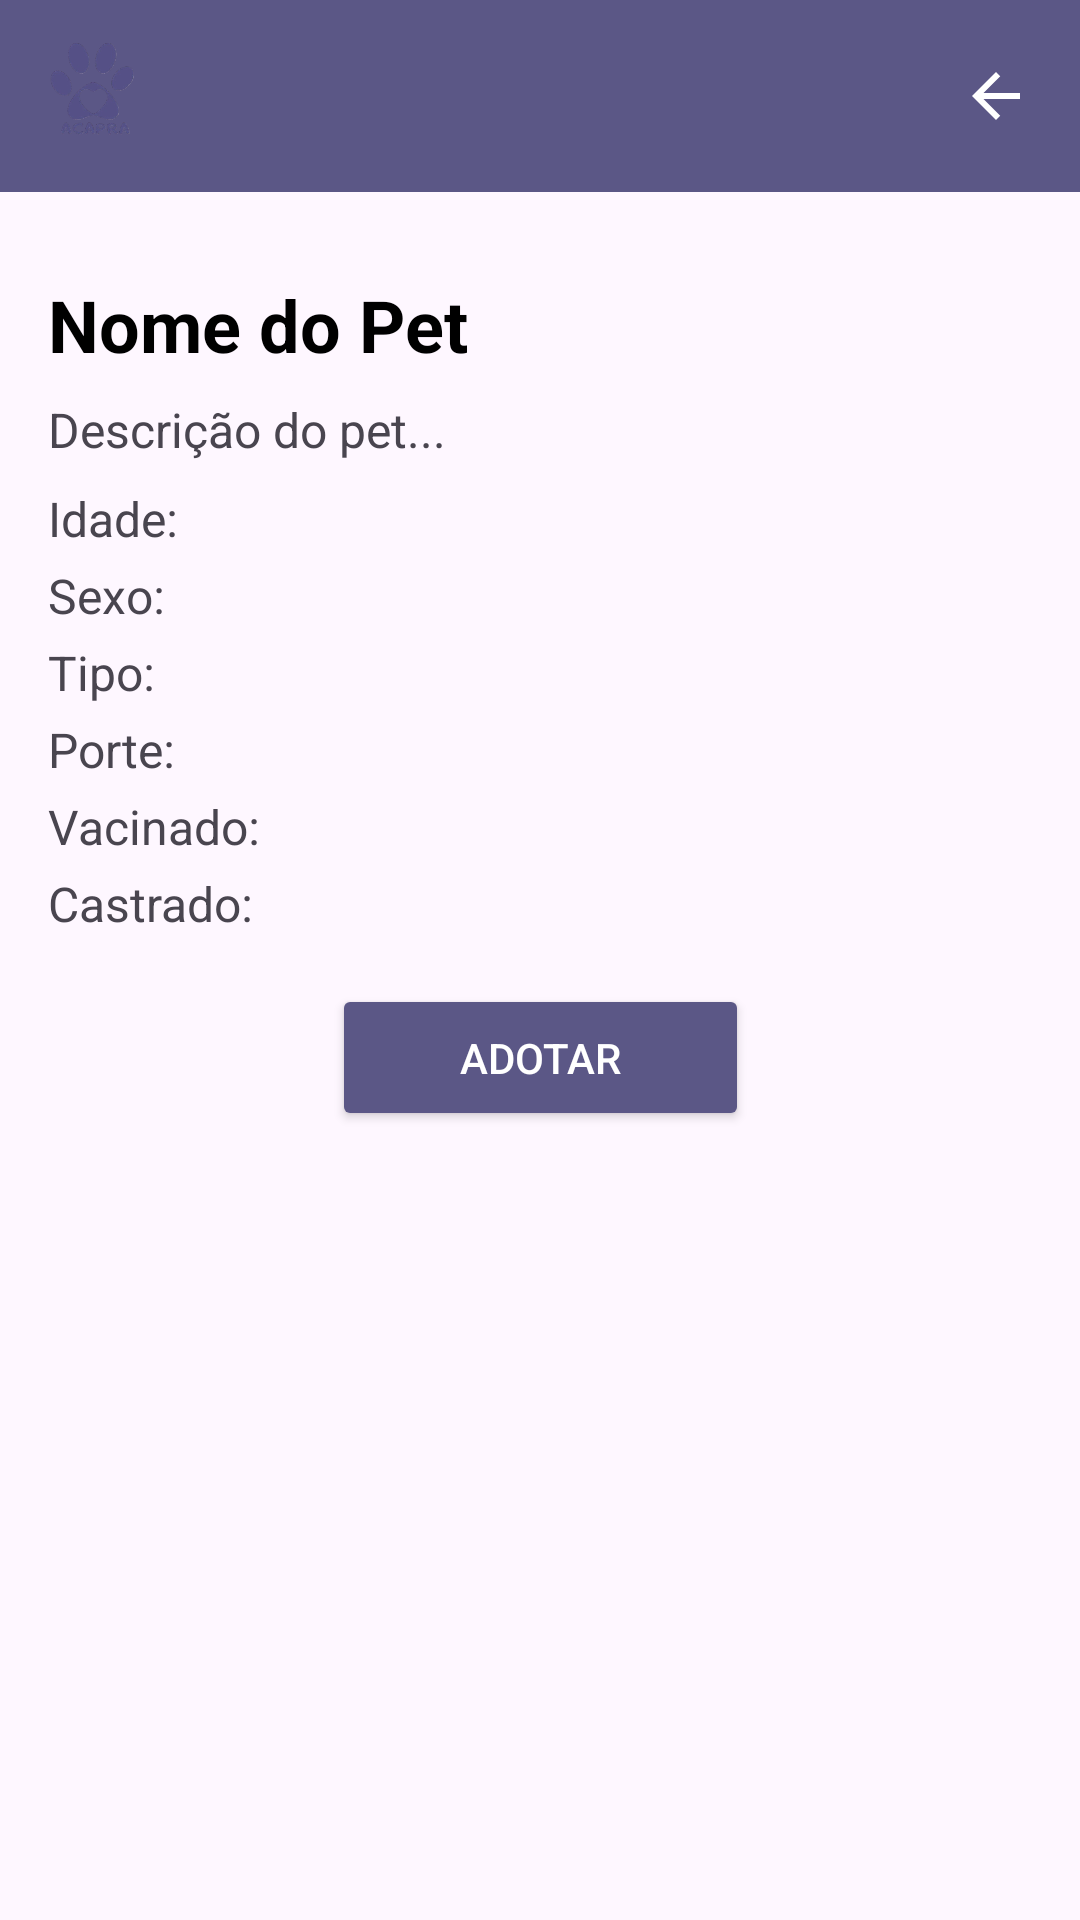

Screen size 1080w x 1920h. Icon name, then its box in pixels as (x1, y1, x2, y2):
Voltar: (972, 72, 1020, 120)
